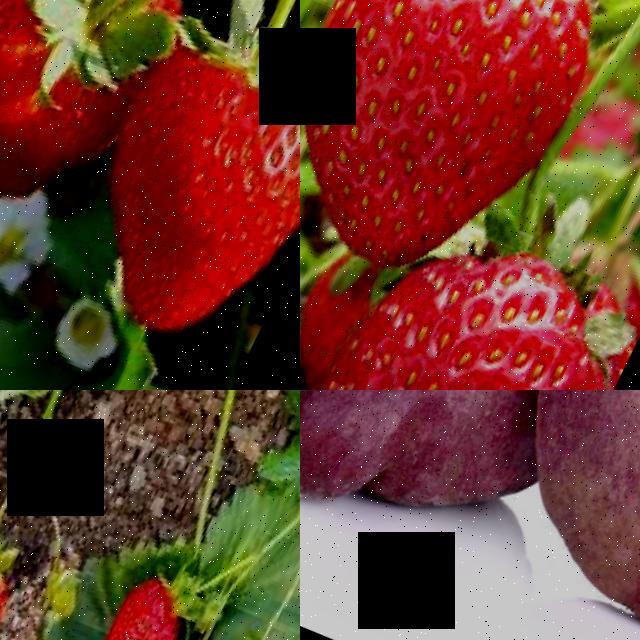strawberry: (300, 0, 629, 300), (40, 16, 300, 390), (304, 215, 640, 390), (0, 0, 197, 252), (80, 571, 182, 640)
sweet potato: (404, 390, 640, 640), (300, 390, 565, 585)
